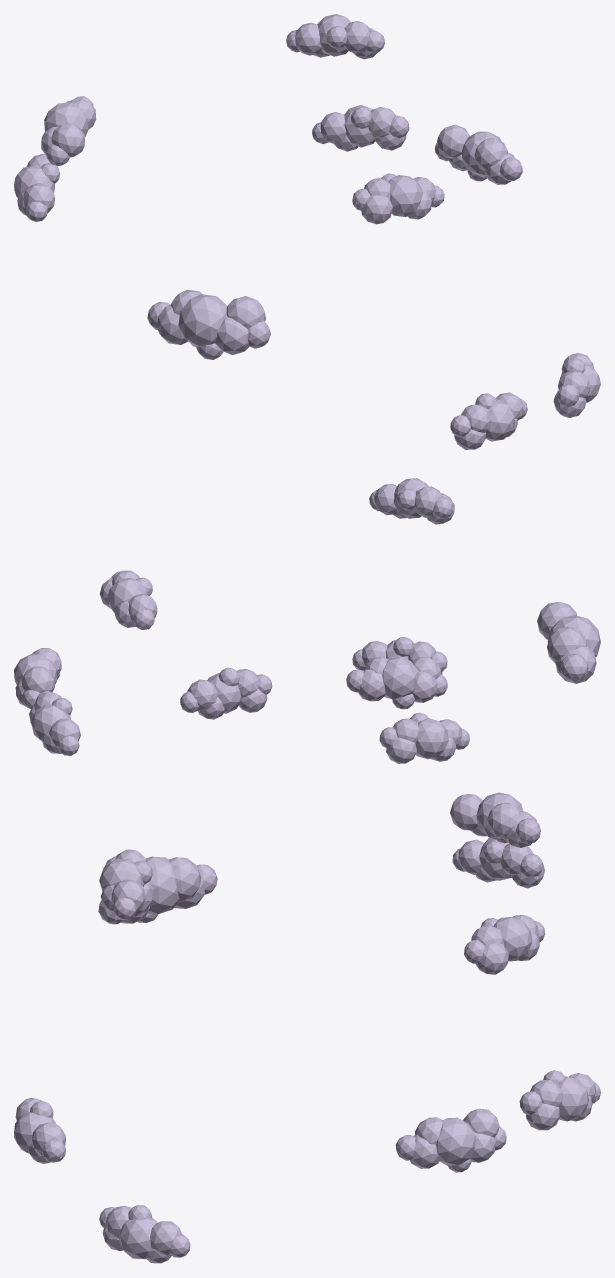
The model's file is clouds_03.gltf.
3 renders of one model, top to bottom at view 1: azimuth 30°, elevation 25°; view 2: azimuth 150°, elevation 25°; view 3: azimuth 270°, elevation 25°, orthographic. The views are drawn at different scales.
Visible parts, largest first — view 1: Icosphere.014, Icosphere.001, Icosphere.020, Icosphere.004, Icosphere.017, Icosphere.026, Icosphere.008, Icosphere.011, Icosphere.025; view 2: Icosphere.008, Icosphere.014, Icosphere.025, Icosphere.011, Icosphere.020, Icosphere.017, Icosphere.004, Icosphere.001, Icosphere.026; view 3: Icosphere.001, Icosphere.014, Icosphere.025, Icosphere.008, Icosphere.004, Icosphere.017, Icosphere.011, Icosphere.020, Icosphere.026.
Boxes of the visible parts, bbox=[...] form: Icosphere.014: bbox=[147, 289, 270, 359]; Icosphere.001: bbox=[434, 124, 522, 184]; Icosphere.020: bbox=[352, 173, 444, 224]; Icosphere.004: bbox=[312, 105, 409, 151]; Icosphere.017: bbox=[286, 14, 384, 59]; Icosphere.026: bbox=[450, 392, 527, 449]; Icosphere.008: bbox=[41, 96, 96, 165]; Icosphere.011: bbox=[14, 153, 59, 221]; Icosphere.025: bbox=[553, 353, 600, 417]; Icosphere.008: bbox=[346, 657, 447, 709]; Icosphere.014: bbox=[537, 601, 600, 683]; Icosphere.025: bbox=[180, 667, 272, 719]; Icosphere.011: bbox=[379, 712, 469, 763]; Icosphere.020: bbox=[369, 478, 454, 524]; Icosphere.017: bbox=[99, 570, 157, 629]; Icosphere.004: bbox=[29, 691, 80, 755]; Icosphere.001: bbox=[14, 648, 61, 708]; Icosphere.026: bbox=[352, 636, 447, 674]; Icosphere.001: bbox=[395, 1108, 506, 1172]; Icosphere.014: bbox=[98, 856, 217, 924]; Icosphere.025: bbox=[99, 1205, 190, 1263]; Icosphere.008: bbox=[450, 792, 540, 847]; Icosphere.004: bbox=[519, 1070, 600, 1130]; Icosphere.017: bbox=[464, 915, 545, 974]; Icosphere.011: bbox=[452, 838, 544, 888]; Icosphere.020: bbox=[99, 849, 152, 919]; Icosphere.026: bbox=[14, 1098, 65, 1163].
Bounding box in the file's own units: 3.01 × 1.72 × 3.01.
